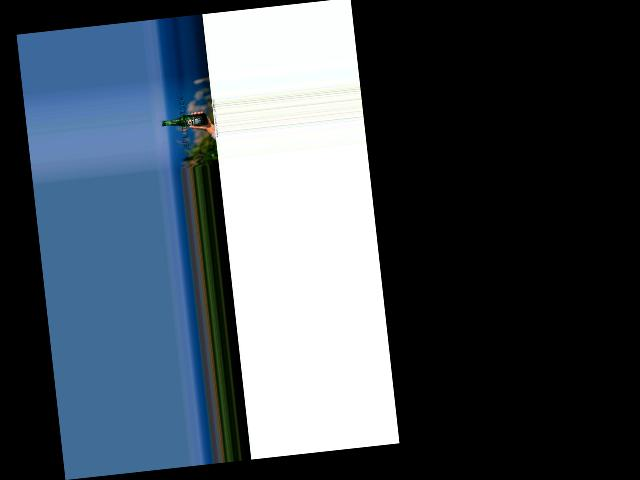beer: (161, 113, 207, 129)
